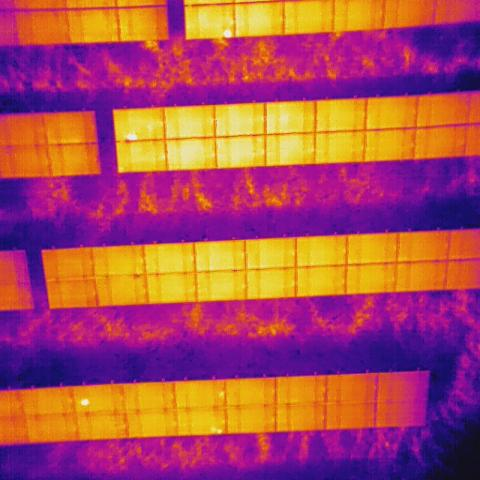fault: (123, 132, 141, 142), (80, 395, 90, 408), (222, 27, 232, 39), (216, 427, 223, 435)
